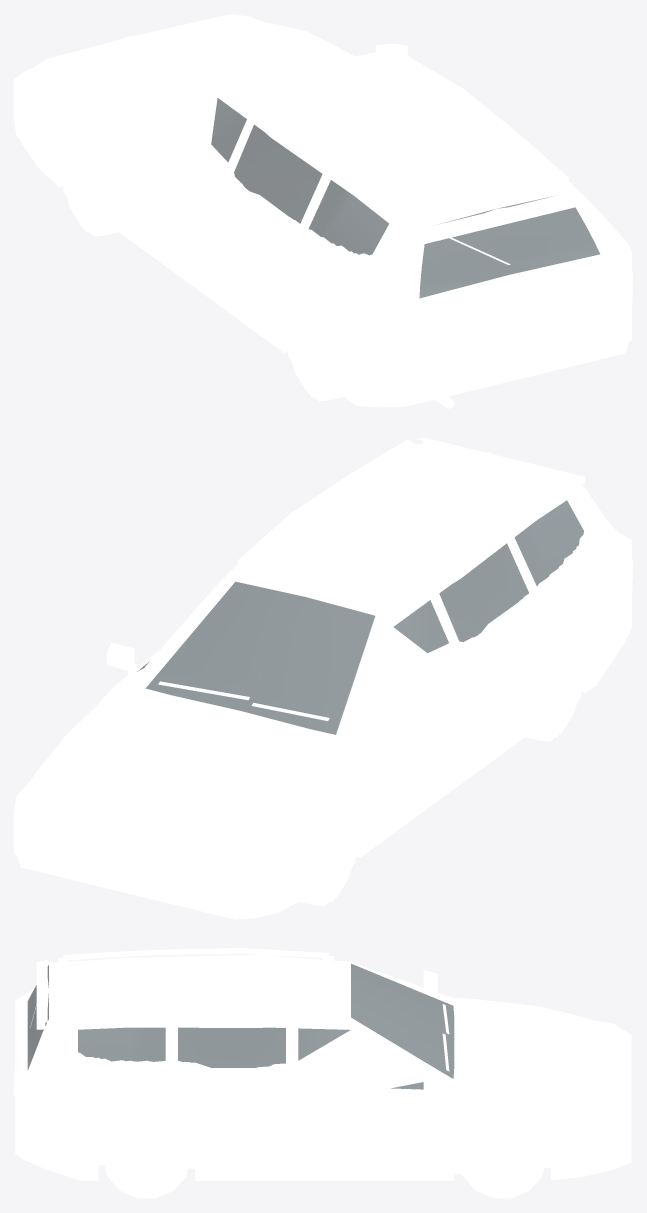
File: car_estate.glb
The picture shows the model from 3 angles, top to bottom: view 1: azimuth 30°, elevation 25°; view 2: azimuth 150°, elevation 25°; view 3: azimuth 270°, elevation 25°; orthographic projection. The views are drawn at different scales.
Visible parts, largest first — view 1: car_estate, car_estate_lodfar; view 2: car_estate, car_estate_lodfar; view 3: car_estate, car_estate_lodfar.
Part boxes in pixels (x1,y1,x2,y2): car_estate: [14, 14, 632, 408]; car_estate_lodfar: [14, 35, 631, 397]; car_estate: [14, 437, 632, 919]; car_estate_lodfar: [14, 457, 631, 909]; car_estate: [14, 948, 631, 1198]; car_estate_lodfar: [15, 962, 631, 1198].
Size of the model in its own units: 2.17 by 1.5 by 4.94.
